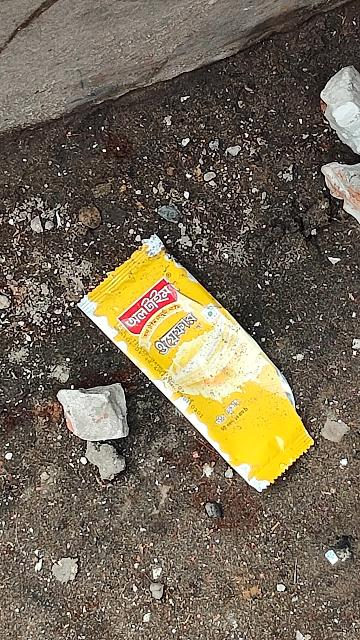packet: (76, 225, 324, 506)
